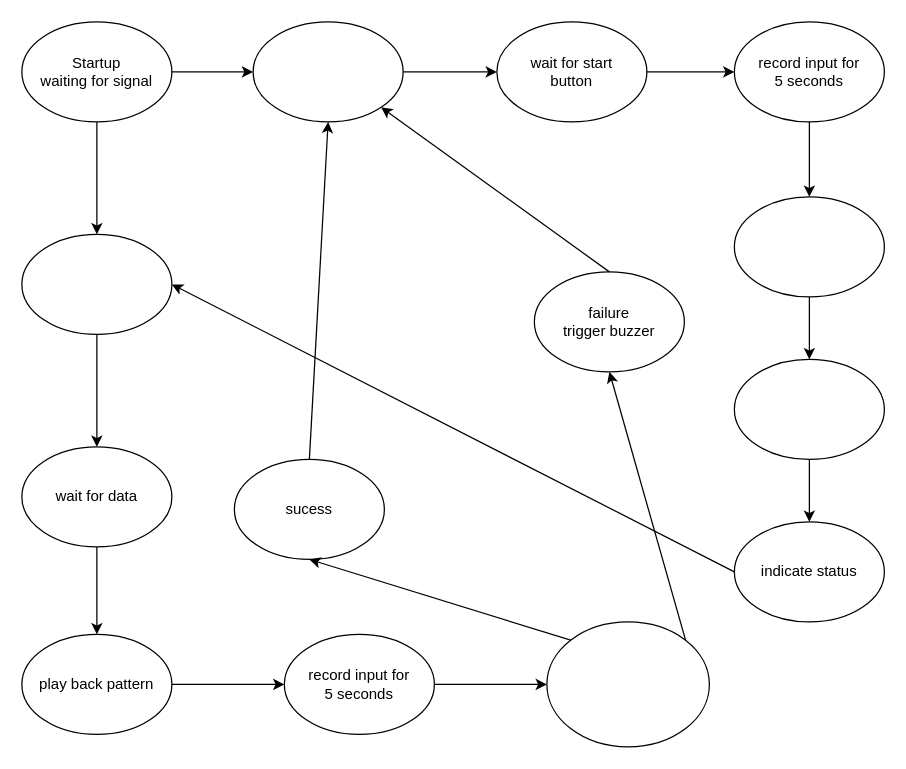
Some shapes in this 906 by 769 pixel diagram are drawn without their labels. The shapes that lost their labels are listed below. From the top down, each one's centre as x and y in pixels, then its label:
the point at 327,71: become first player
the point at 808,246: send data to second player
the point at 96,283: become second player
the point at 808,408: wait for status
the point at 627,684: compare recorded pattern to received pattern
